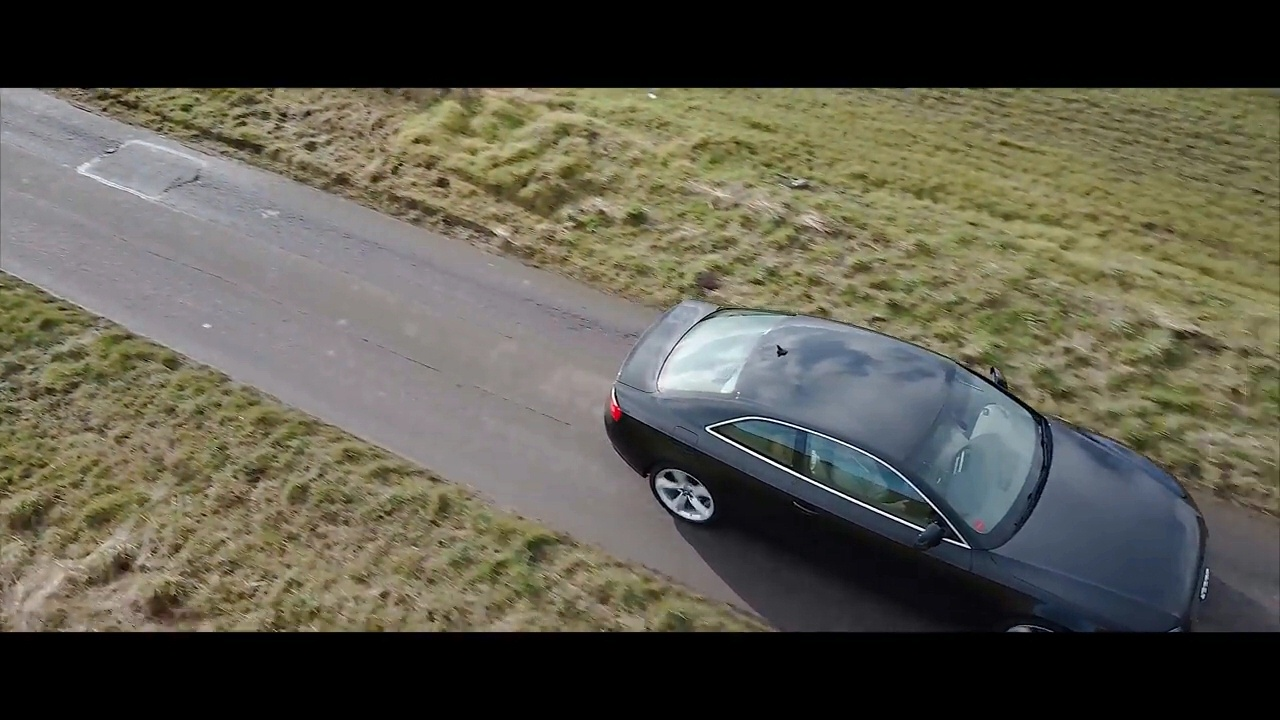araba: (601, 293, 1216, 636)
